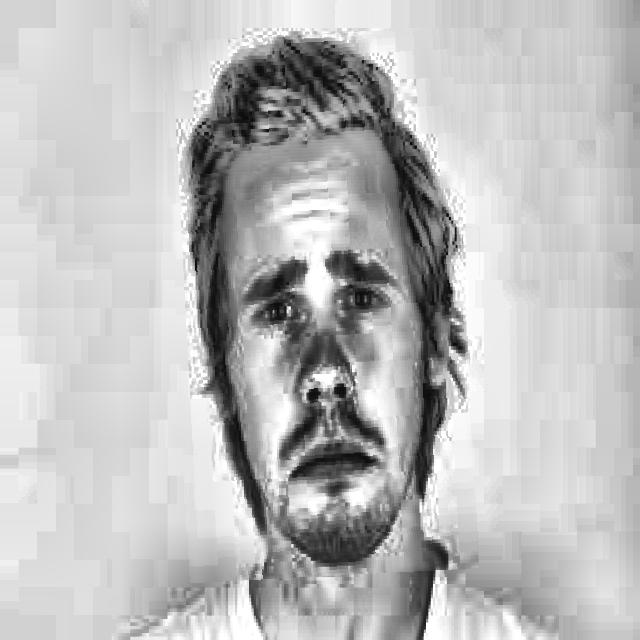sad: (169, 30, 473, 580)
